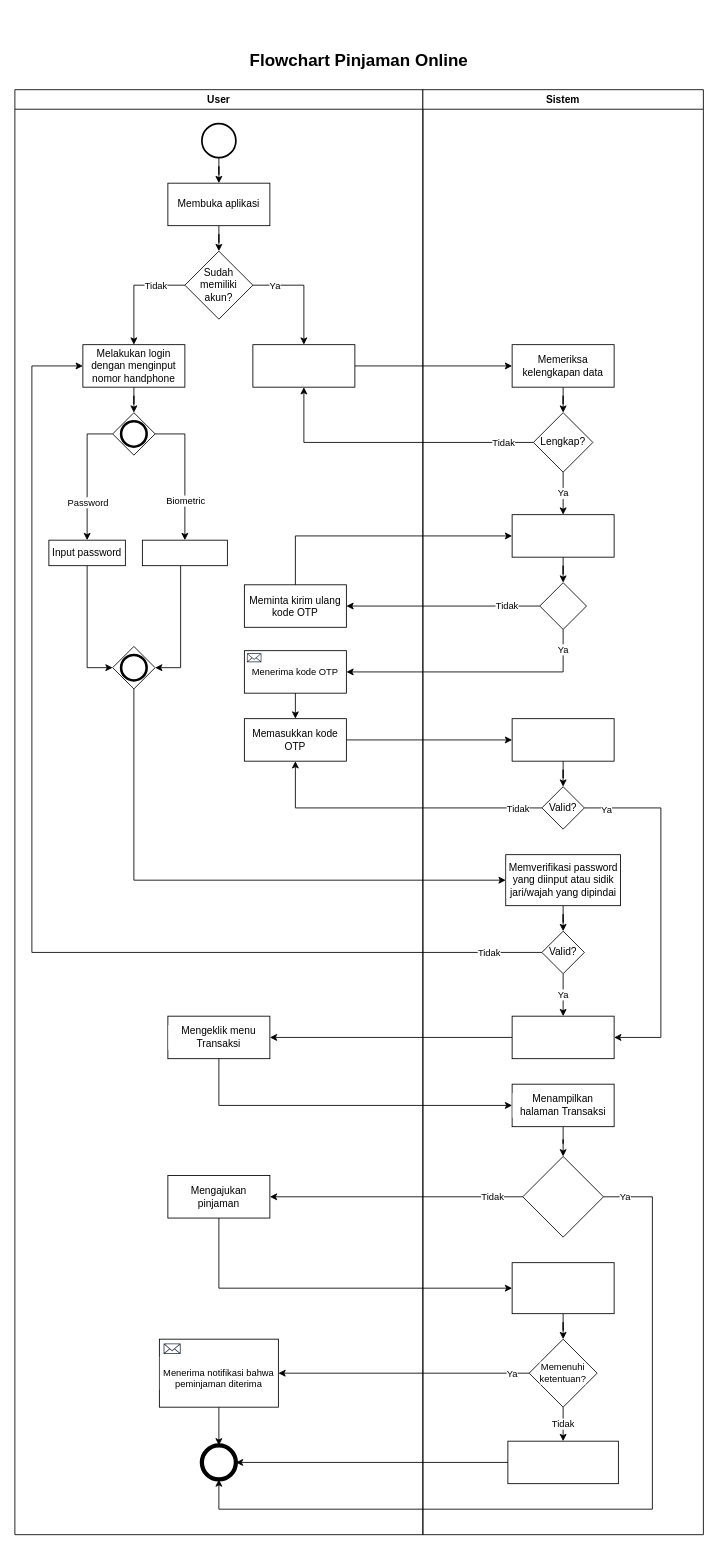
The diagram is 718 pixels wide and 1550 high, and some of its shapes have lost their labels. The shapes that lost their labels are listed below. From the top down, each one's centre as x and y in pixels, then its label:
the point at 303,365: Melakukan registrasi
the point at 133,433: Cara login?
the point at 184,552: Scan fingerprint/ Face recognition
the point at 562,535: Mengirim kode OTP
the point at 562,605: Terkirim?
the point at 562,739: Memverifikasi kode OTP
the point at 562,1037: Menampilkan halaman utama
the point at 563,1196: Terdapat pinjaman belum lunas?
the point at 562,1288: Memeriksa pinjaman yang diajukan
the point at 562,1462: Menampilkan pop up alert bahwa peminjaman ditolak
